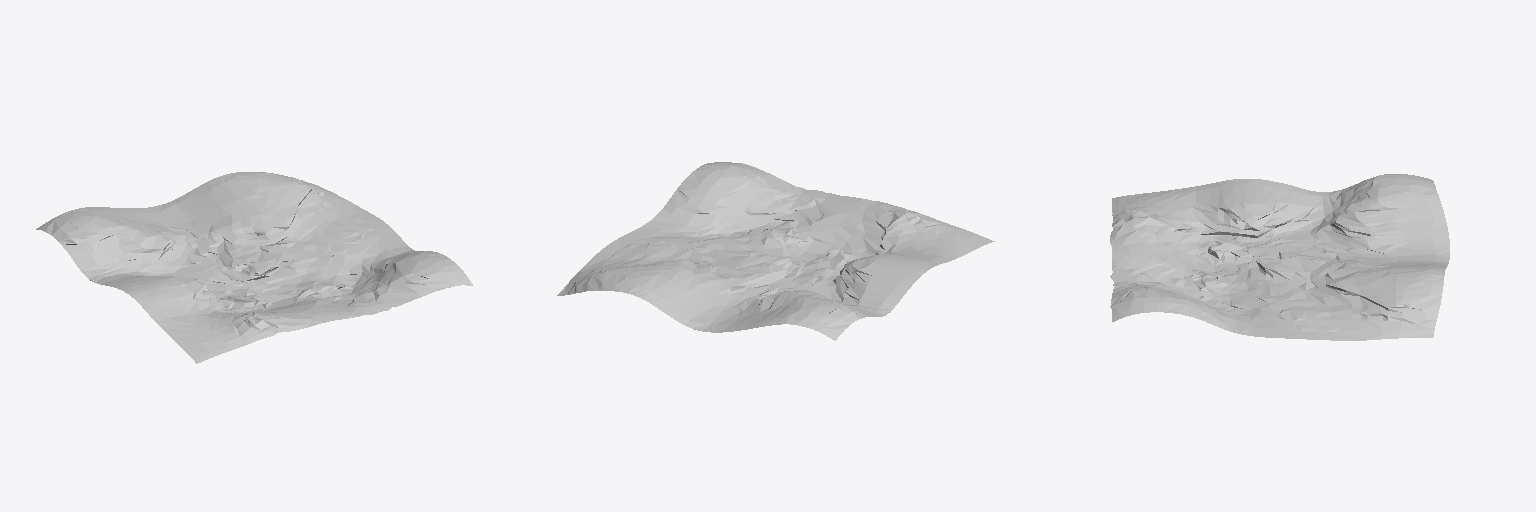
File: ground.obj
3 views of the same model, side by side, from view 1: azimuth 30°, elevation 25°; view 2: azimuth 150°, elevation 25°; view 3: azimuth 270°, elevation 25° (orthographic).
Visible parts, largest first — view 1: pPlane1; view 2: pPlane1; view 3: pPlane1.
Boxes of the visible parts, <box> form: pPlane1: <box>36,172,472,363</box>; pPlane1: <box>557,162,994,340</box>; pPlane1: <box>1110,174,1449,340</box>.
Bounding box in the file's own units: 1048 × 127 × 1065.